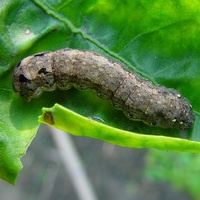insect: (12, 48, 194, 128)
